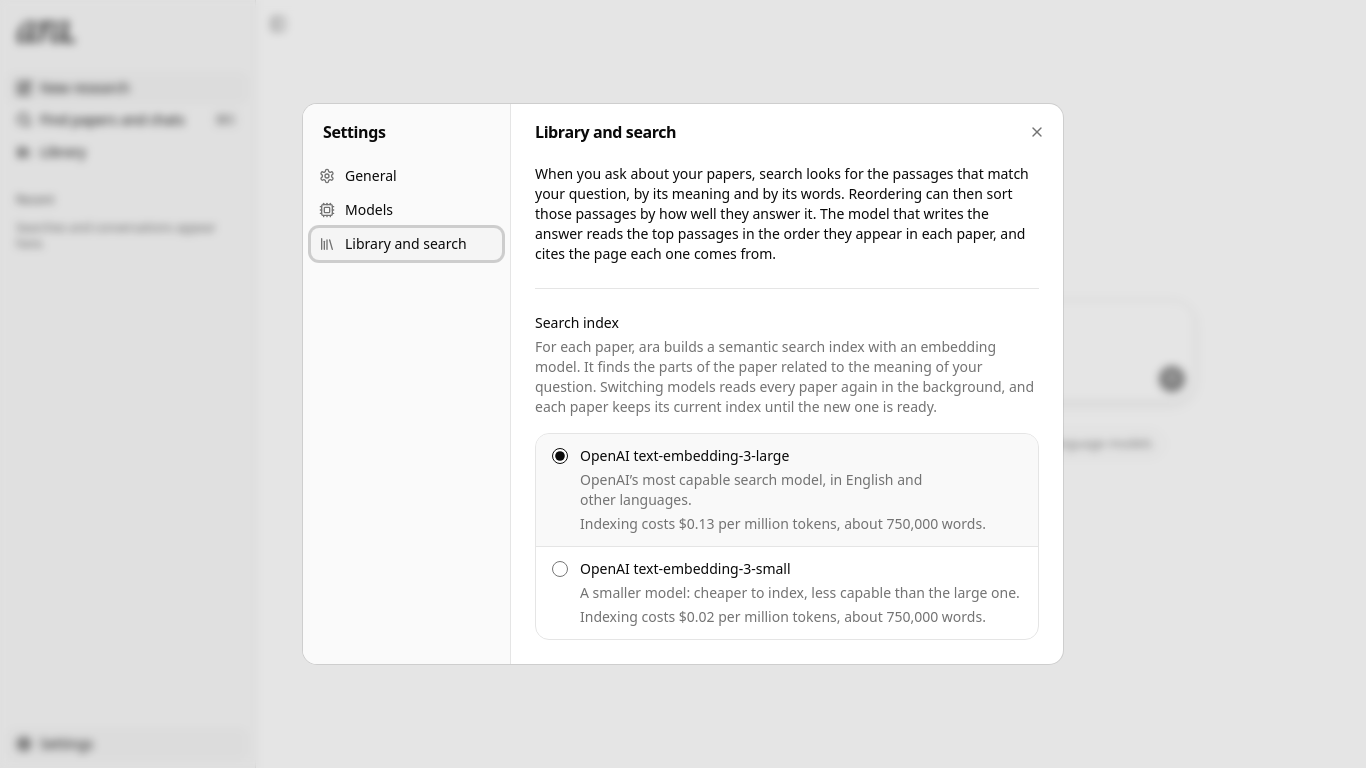
it: Given an empty library, When a new model is chosen, Then the dialog says there is nothing to rebuild yet
The image size is (1366, 768).
Step 1. Click the radio button labelled "OpenAI text-embedding-3-small" → coordinates (560, 569), box 552,561 -> 568,577
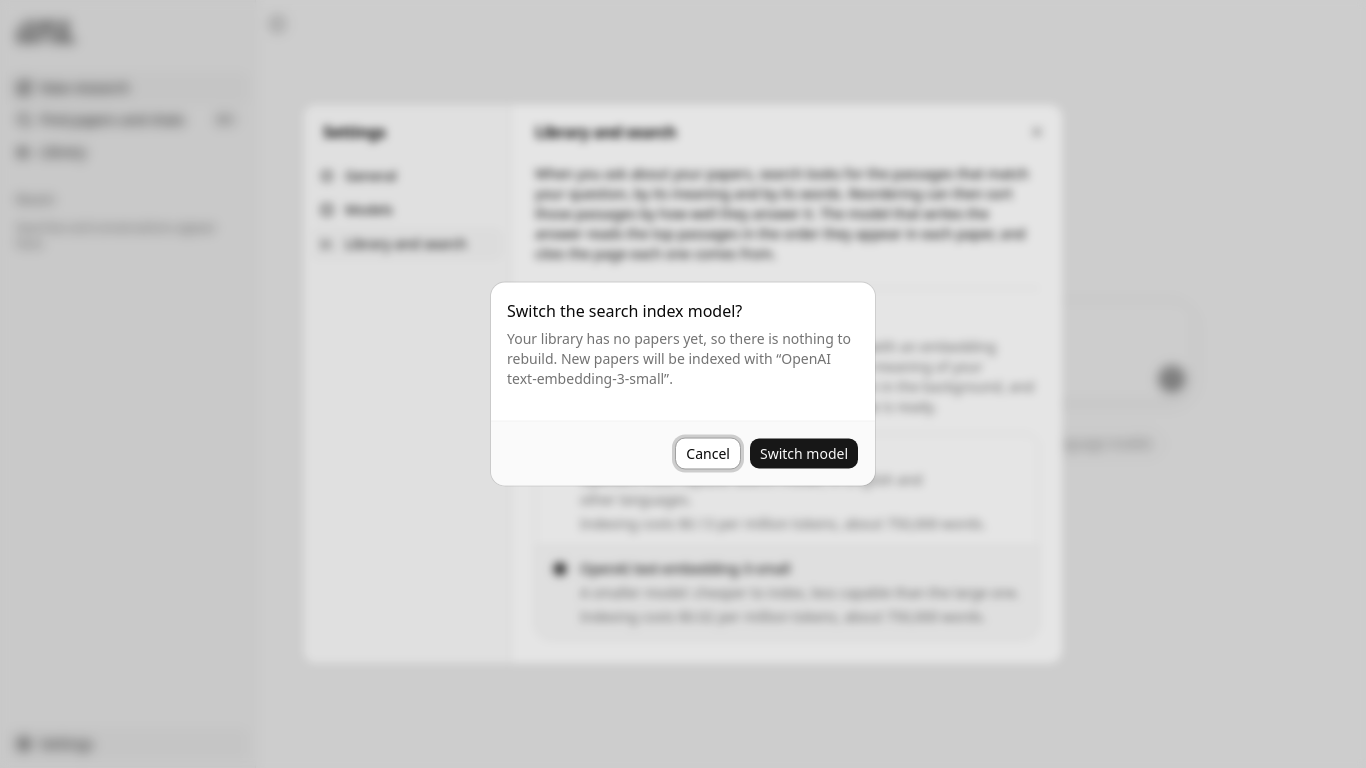
Now the text "Your library has no papers yet, so there is nothing to rebuild. New papers will be indexed with “OpenAI text-embedding-3" is shown, box 507,328 -> 851,388
Now the button "Switch model" is enabled, box 749,438 -> 859,470
